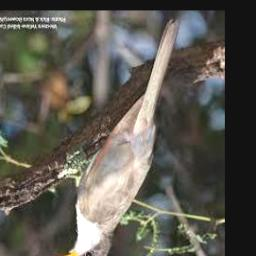Cuckoo: (52, 19, 180, 256)
